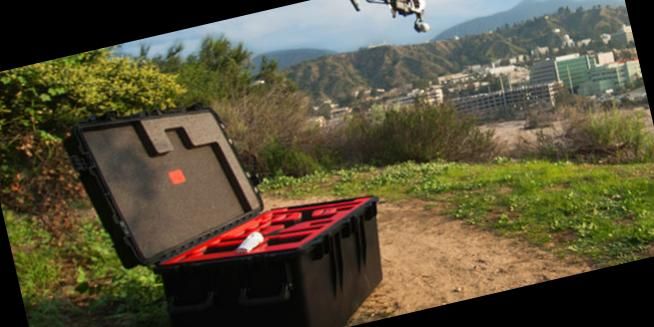drone: (343, 0, 470, 46)
